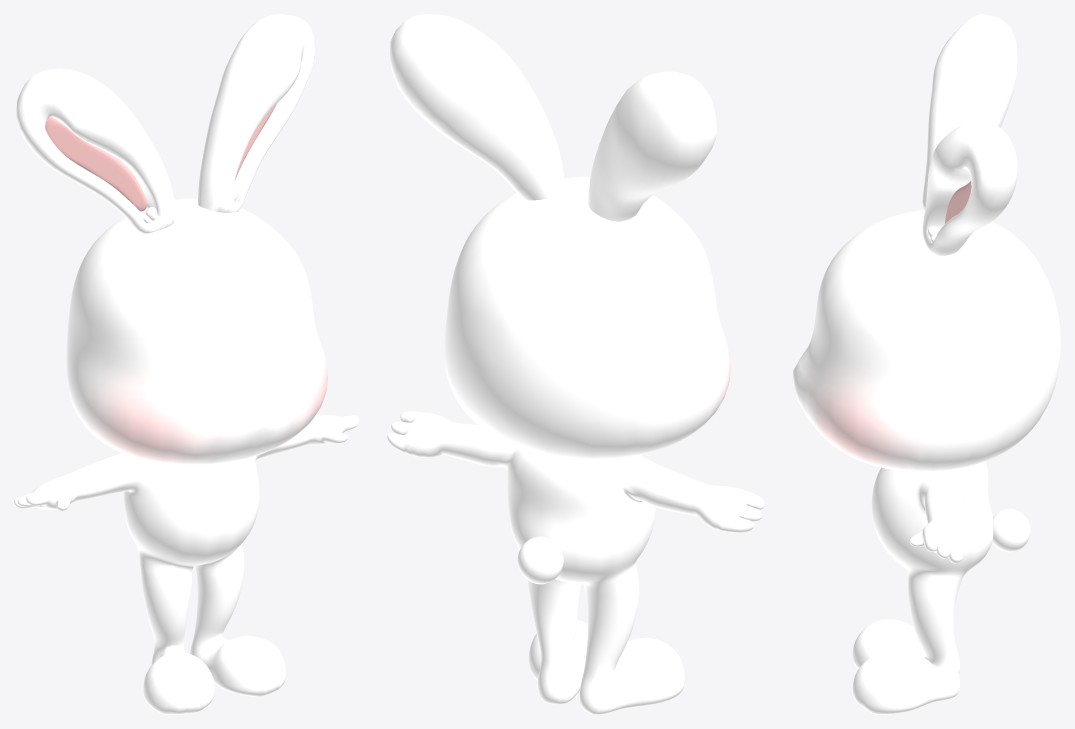
File: T-POSED_BODY_FIN_SUBDIV_met.gltf
3 renders of one model, left to right at view 1: azimuth 30°, elevation 25°; view 2: azimuth 150°, elevation 25°; view 3: azimuth 270°, elevation 25°, orthographic. The views are drawn at different scales.
Parts seen in each view (by area): view 1: T_POSED_BODY_FIN_SUBDIV-lambert_rabbit, T_POSED_BODY_FIN_SUBDIV-lambert_innerear; view 2: T_POSED_BODY_FIN_SUBDIV-lambert_rabbit; view 3: T_POSED_BODY_FIN_SUBDIV-lambert_rabbit, T_POSED_BODY_FIN_SUBDIV-lambert_innerear.
Boxes of the visible parts, left/top/right/bottom form: T_POSED_BODY_FIN_SUBDIV-lambert_rabbit: left=14, top=14, right=358, bottom=714; T_POSED_BODY_FIN_SUBDIV-lambert_innerear: left=45, top=104, right=276, bottom=211; T_POSED_BODY_FIN_SUBDIV-lambert_rabbit: left=387, top=14, right=764, bottom=714; T_POSED_BODY_FIN_SUBDIV-lambert_rabbit: left=793, top=14, right=1060, bottom=714; T_POSED_BODY_FIN_SUBDIV-lambert_innerear: left=944, top=181, right=971, bottom=223.
Bounding box in the file's own units: 0.0933 × 0.1624 × 0.0643.
2 materials, 1 textured.
